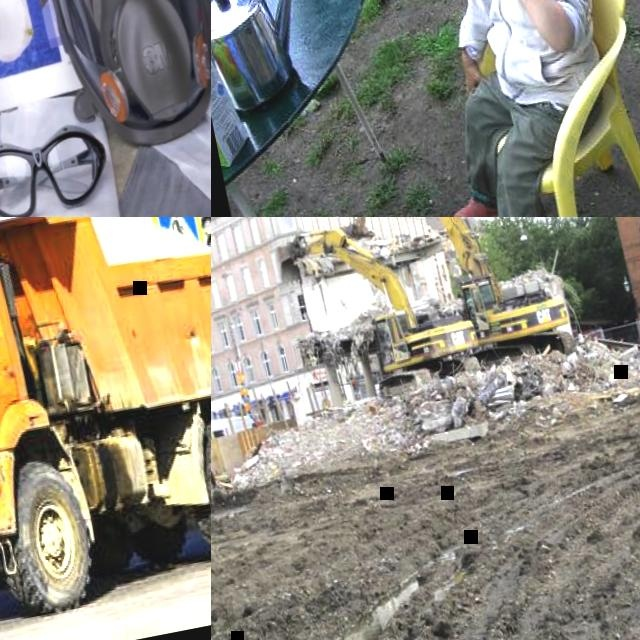Mask: (17, 0, 211, 157)
NO-Safety Vest: (469, 0, 599, 109)
Person: (372, 0, 640, 217)
machinery: (0, 217, 211, 640), (316, 217, 578, 392), (288, 217, 484, 410)
vehicle: (211, 411, 256, 441)
